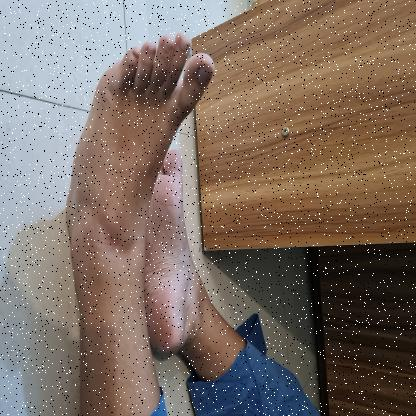leg: (62, 23, 219, 416), (142, 143, 244, 378)
